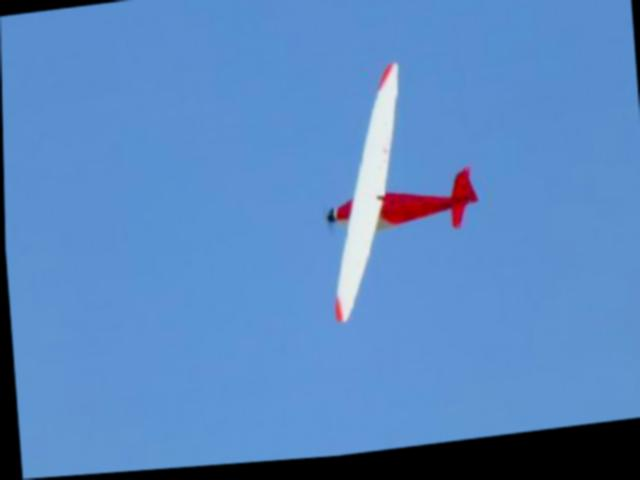uav: (315, 56, 487, 332)
